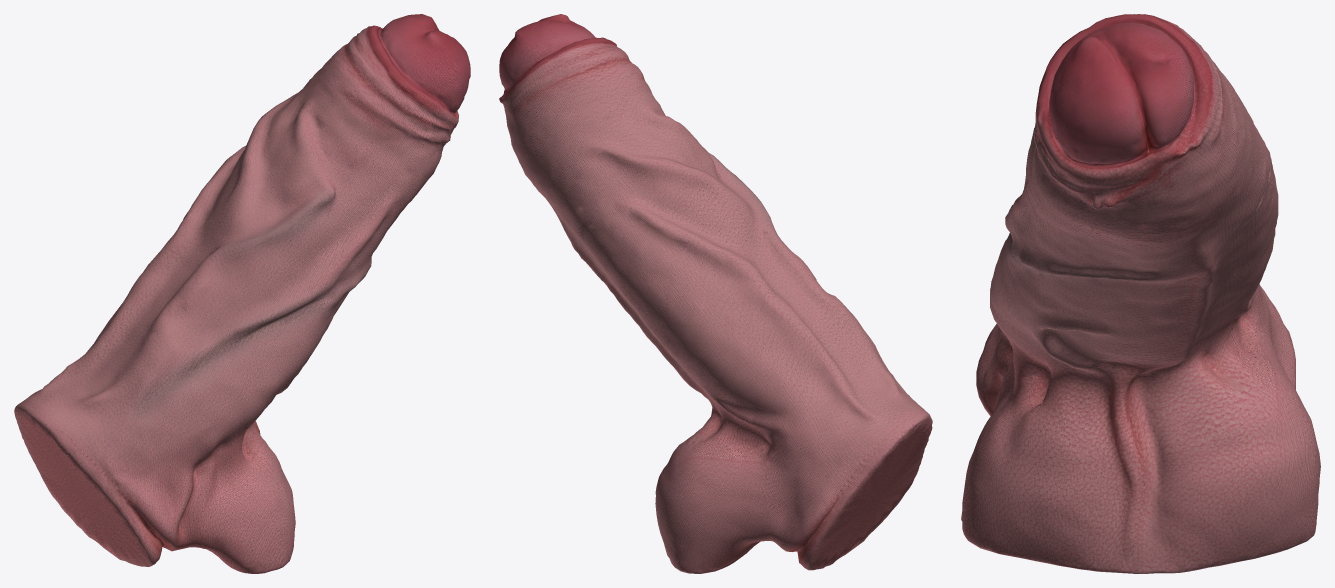
Rendered from c230e796-8cde-49cf-8324-3436f7dbfb8f(1).glb.
3 renders of one model, left to right at view 1: azimuth 30°, elevation 25°; view 2: azimuth 150°, elevation 25°; view 3: azimuth 270°, elevation 25°, orthographic. The views are drawn at different scales.
Visible parts, largest first — view 1: tripo_node_6797f03a-5724-4be3-83ae-f71530cc1b62; view 2: tripo_node_6797f03a-5724-4be3-83ae-f71530cc1b62; view 3: tripo_node_6797f03a-5724-4be3-83ae-f71530cc1b62.
Boxes of the visible parts, left/top/right/bottom form: tripo_node_6797f03a-5724-4be3-83ae-f71530cc1b62: left=14, top=14, right=470, bottom=573; tripo_node_6797f03a-5724-4be3-83ae-f71530cc1b62: left=499, top=14, right=932, bottom=573; tripo_node_6797f03a-5724-4be3-83ae-f71530cc1b62: left=961, top=14, right=1320, bottom=573.
Bounding box in the file's own units: 0.9707 × 0.998 × 0.5098.
1 material, 1 textured.
